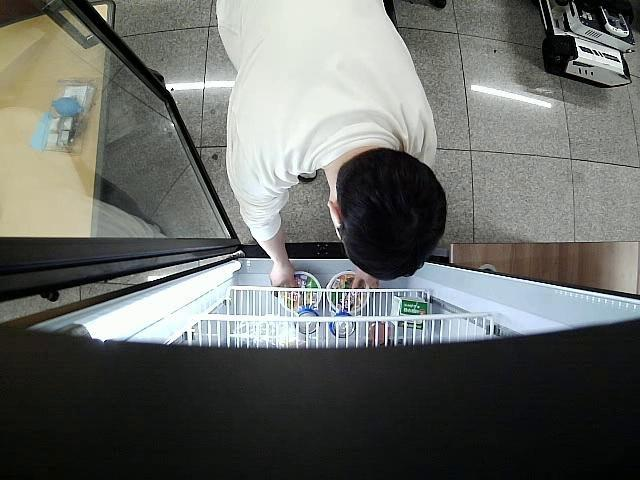09_yukGaeJang: (278, 273, 324, 316), (328, 274, 368, 314)
